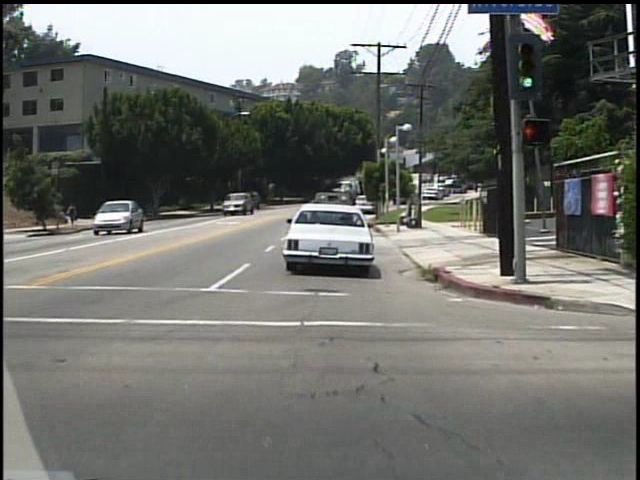person: (68, 203, 80, 229)
